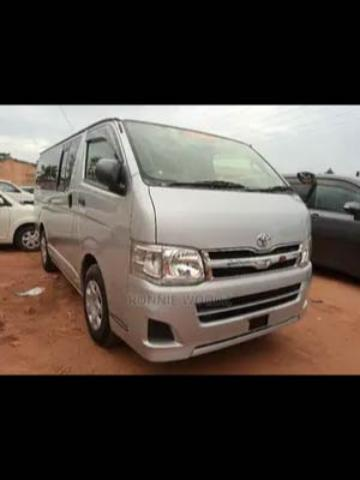van: (35, 116, 313, 362)
